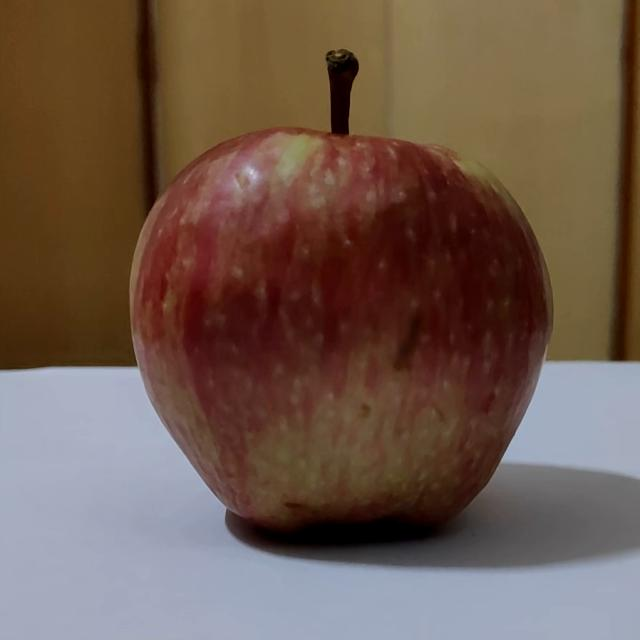apple: (125, 45, 571, 541)
